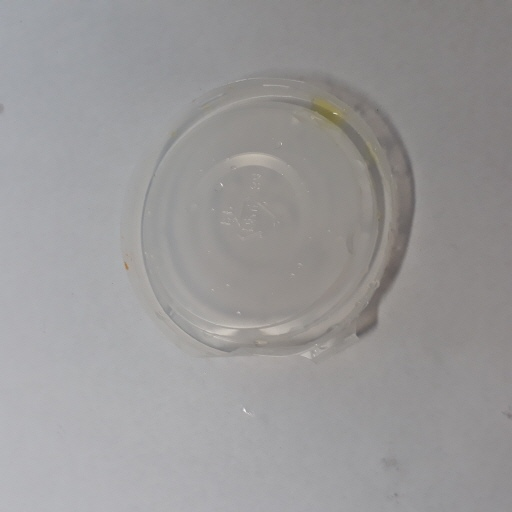Plastic_5: (124, 73, 412, 366)
